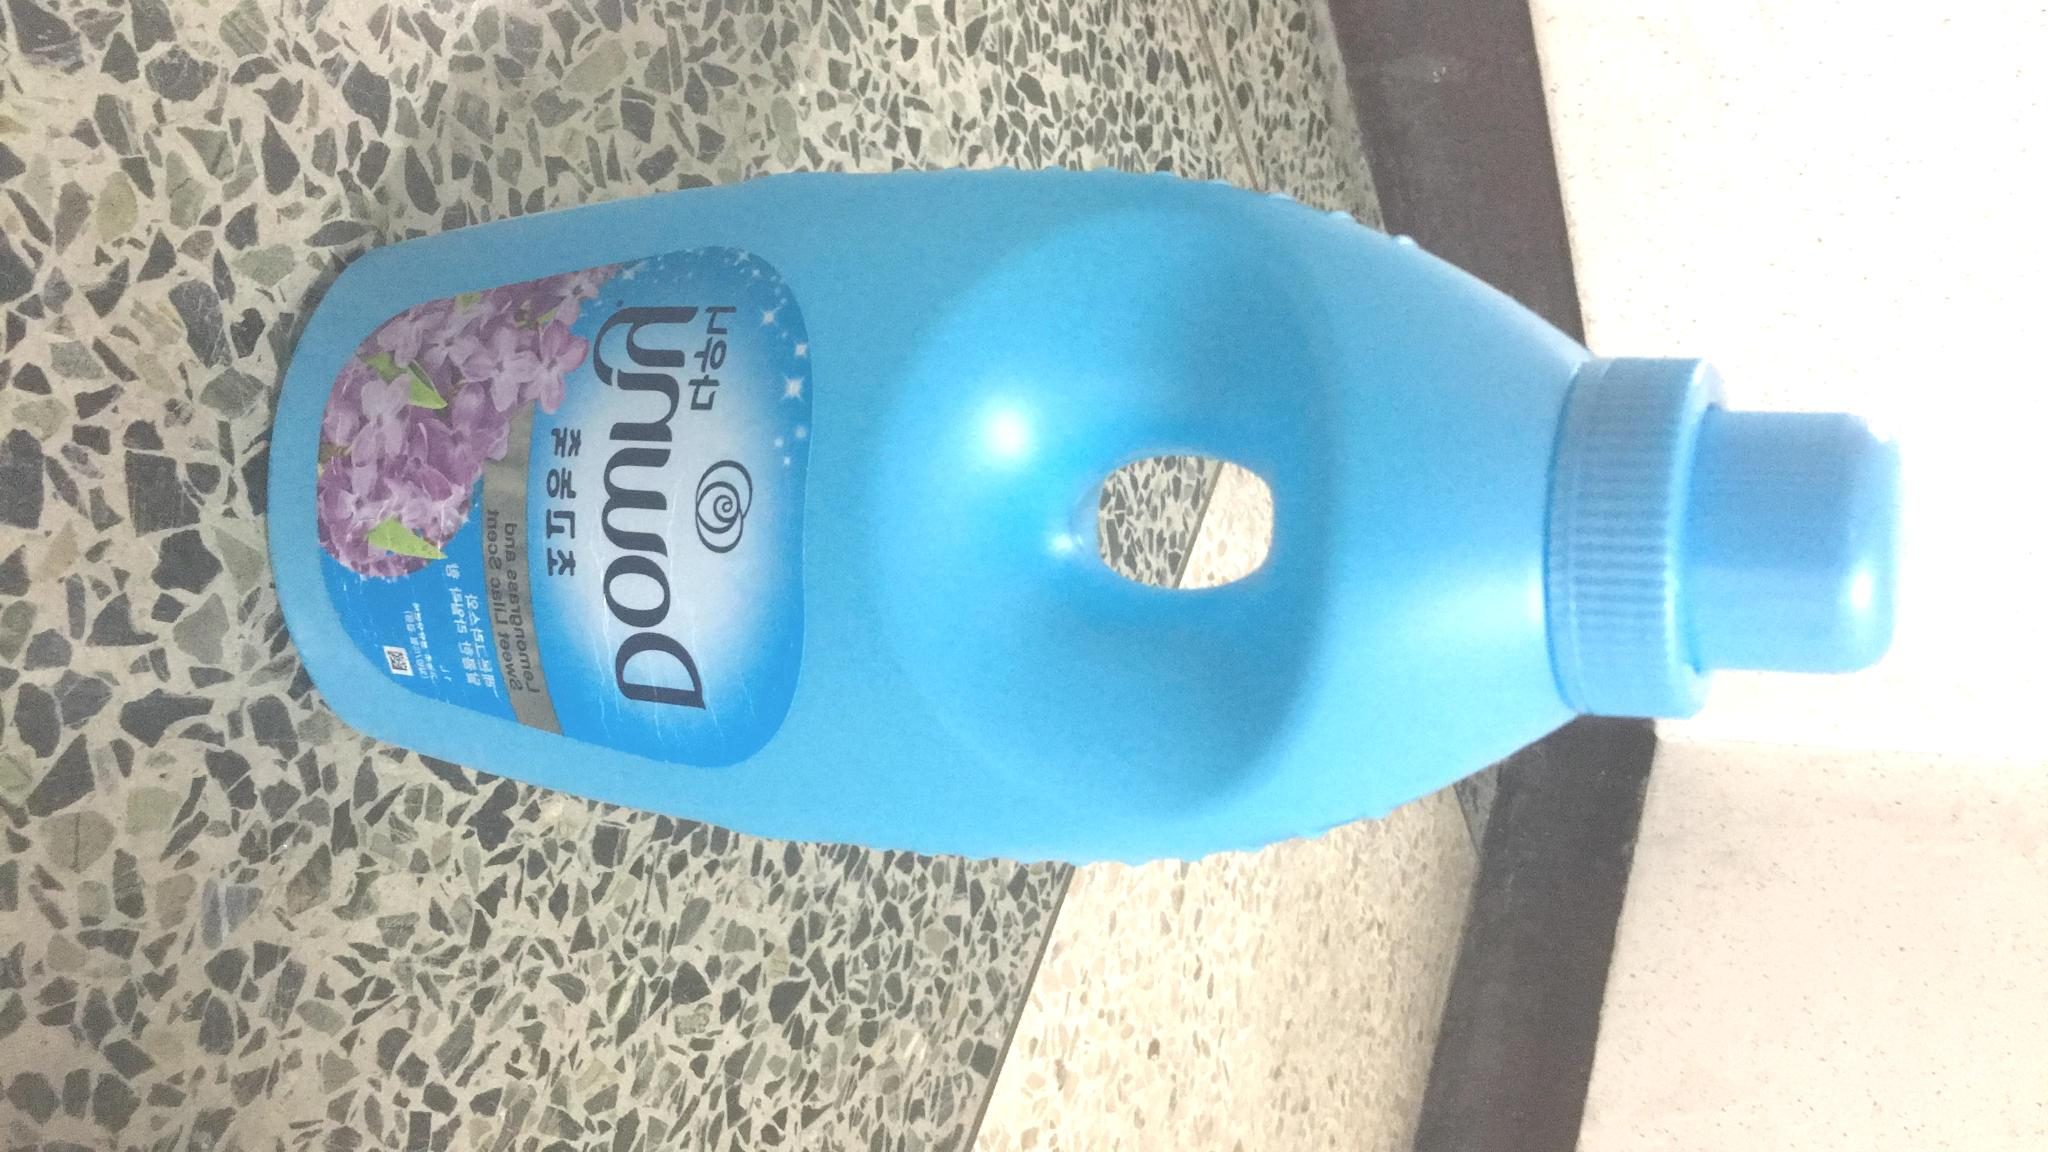bottle: (256, 152, 1948, 904)
